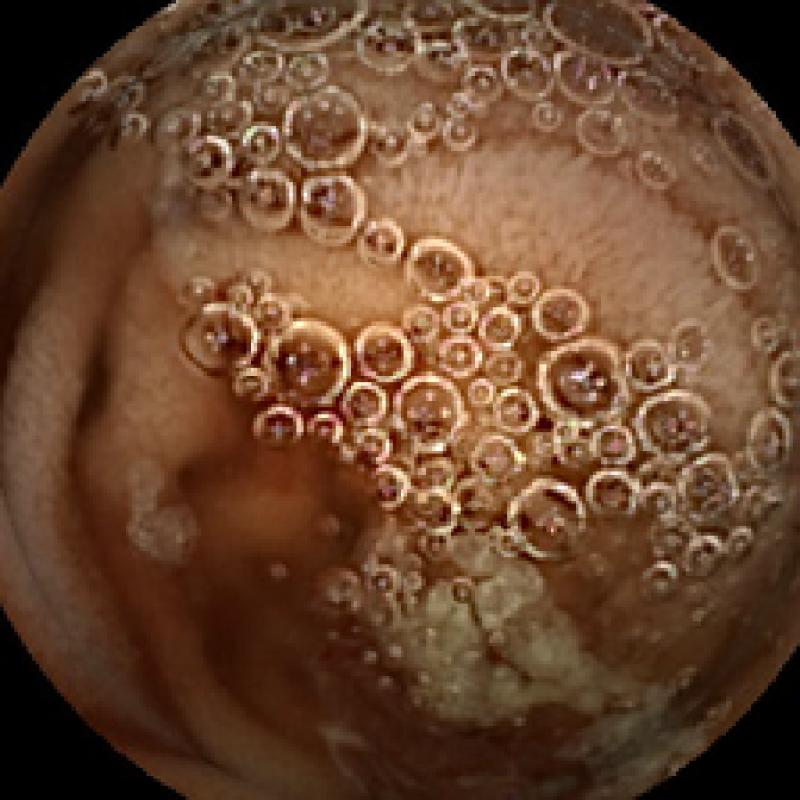bleeding: (193, 332, 600, 793)
